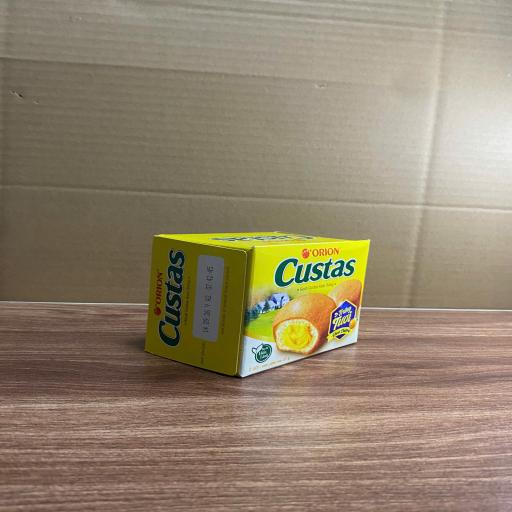custas: (144, 231, 371, 378)
